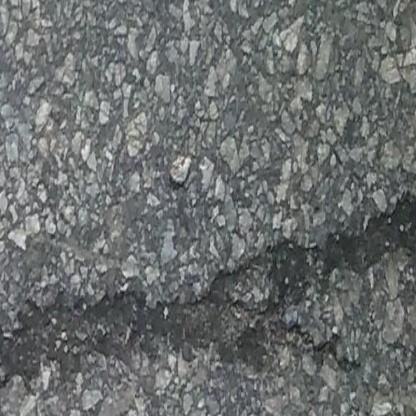Cracks: (0, 186, 416, 414)
